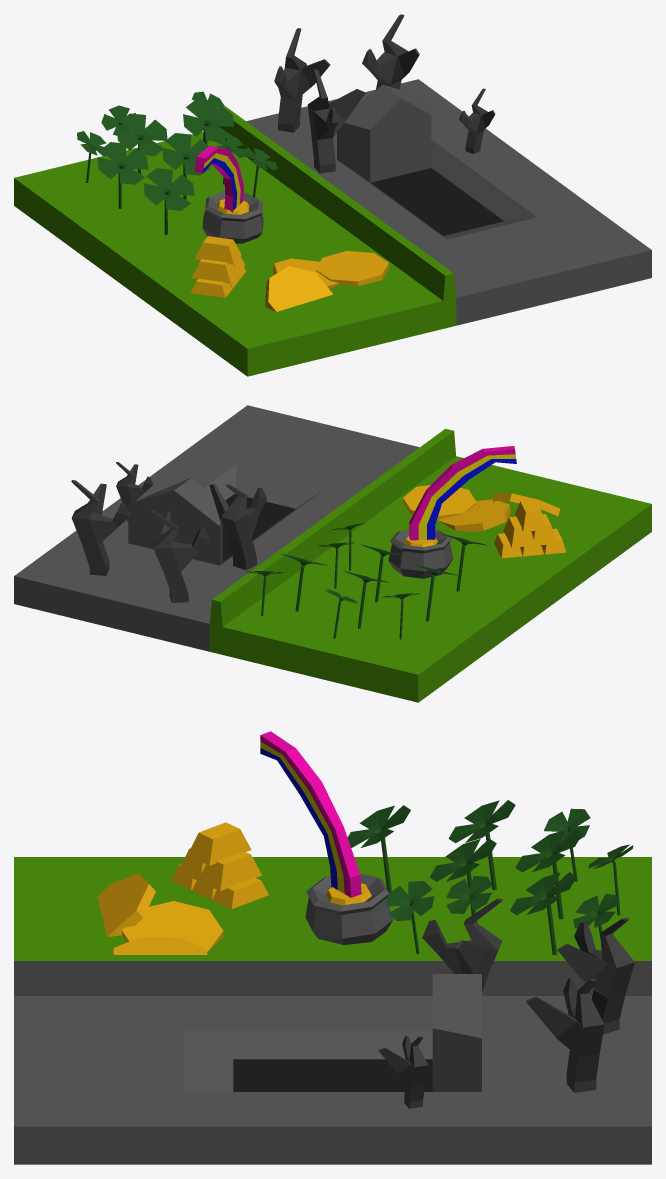
The model's file is sortrevez.fbx.
3 renders of one model, top to bottom at view 1: azimuth 30°, elevation 25°; view 2: azimuth 150°, elevation 25°; view 3: azimuth 270°, elevation 25°, orthographic. The views are drawn at different scales.
Parts seen in each view (by area): view 1: soirtourevez; view 2: soirtourevez; view 3: soirtourevez.
Boxes of the visible parts, box(x1,y1,x2,y2) form: soirtourevez: box(14, 14, 651, 376); soirtourevez: box(14, 405, 651, 702); soirtourevez: box(14, 731, 651, 1164).
Bounding box in the file's own units: 200 × 66.58 × 200.
